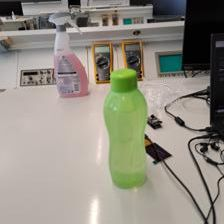bottle: (101, 66, 153, 189)
